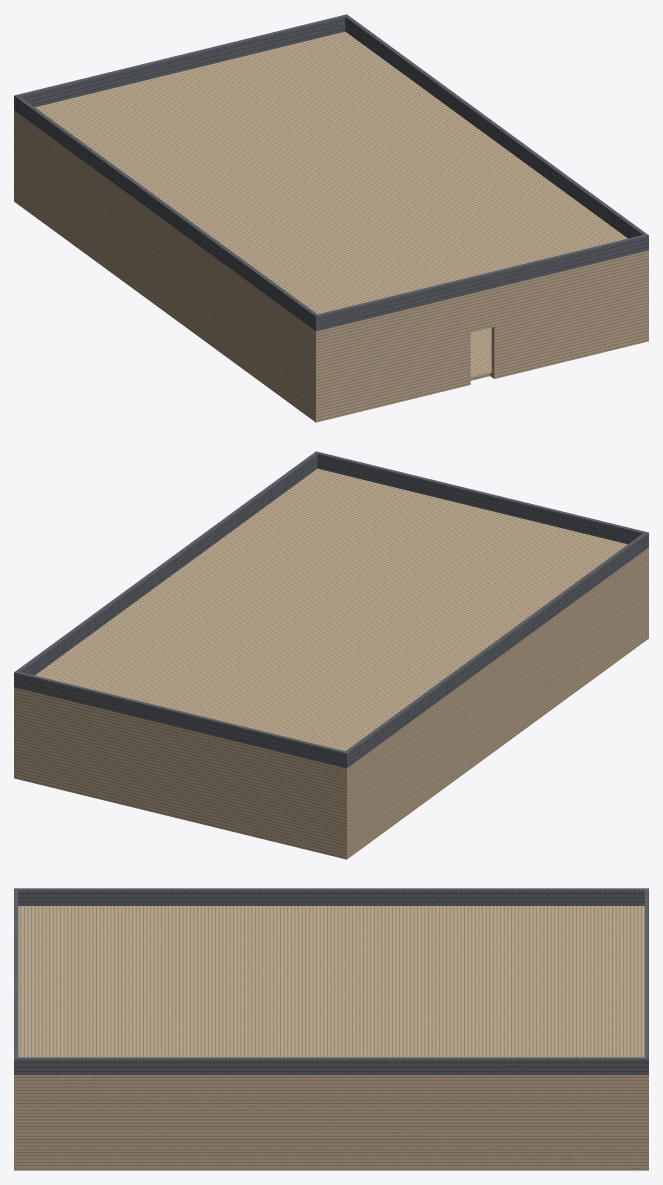
Rendered from dollar_store.glb.
3 views of the same model, one above another, from view 1: azimuth 30°, elevation 25°; view 2: azimuth 150°, elevation 25°; view 3: azimuth 270°, elevation 25° (orthographic). The views are drawn at different scales.
Parts seen in each view (by area): view 1: dollar_store-col; view 2: dollar_store-col; view 3: dollar_store-col.
Boxes of the visible parts, <box> form: dollar_store-col: <box>14,14,648,422</box>; dollar_store-col: <box>14,451,648,859</box>; dollar_store-col: <box>14,888,648,1170</box>.
Size of the model in its own units: 14 by 4.26 by 22.
2 materials, 2 textured.
